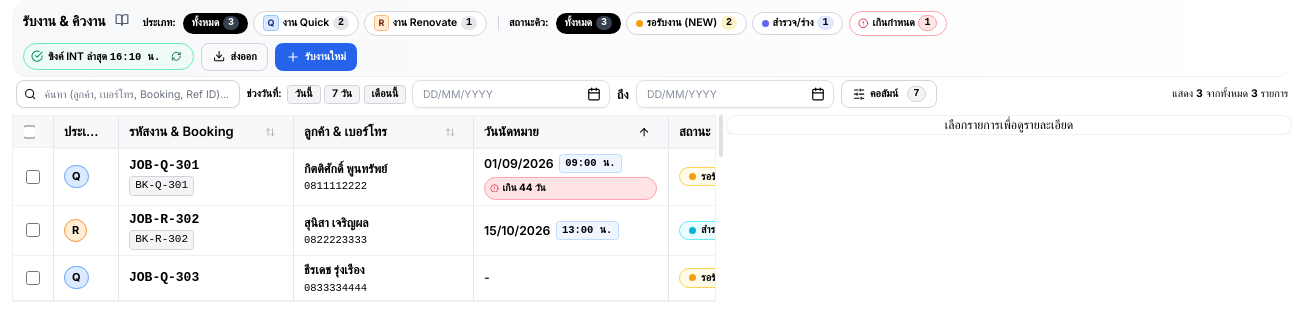
Test: Phase 3 — Toolbar, Filters, Bulk Accept & INT Sync › 1. Status Filter Chips with Counts & Overdue Red Chip › filters list to only Overdue jobs when "เกินกำหนด" red chip is clicked
Click the button "เกินกำหนด 1" at [898, 23], box [849, 10, 947, 36]
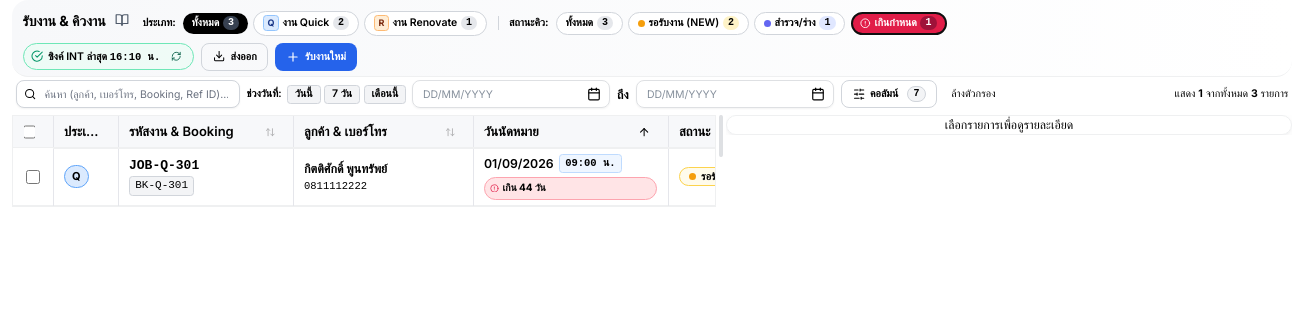
Expected: the text "กิตติศักดิ์ พูนทรัพย์" is shown, [304, 161, 387, 176]
Result: the text "สุนิสา เจริญผล" is gone
Result: the text "ธีรเดช รุ่งเรือง" is gone
